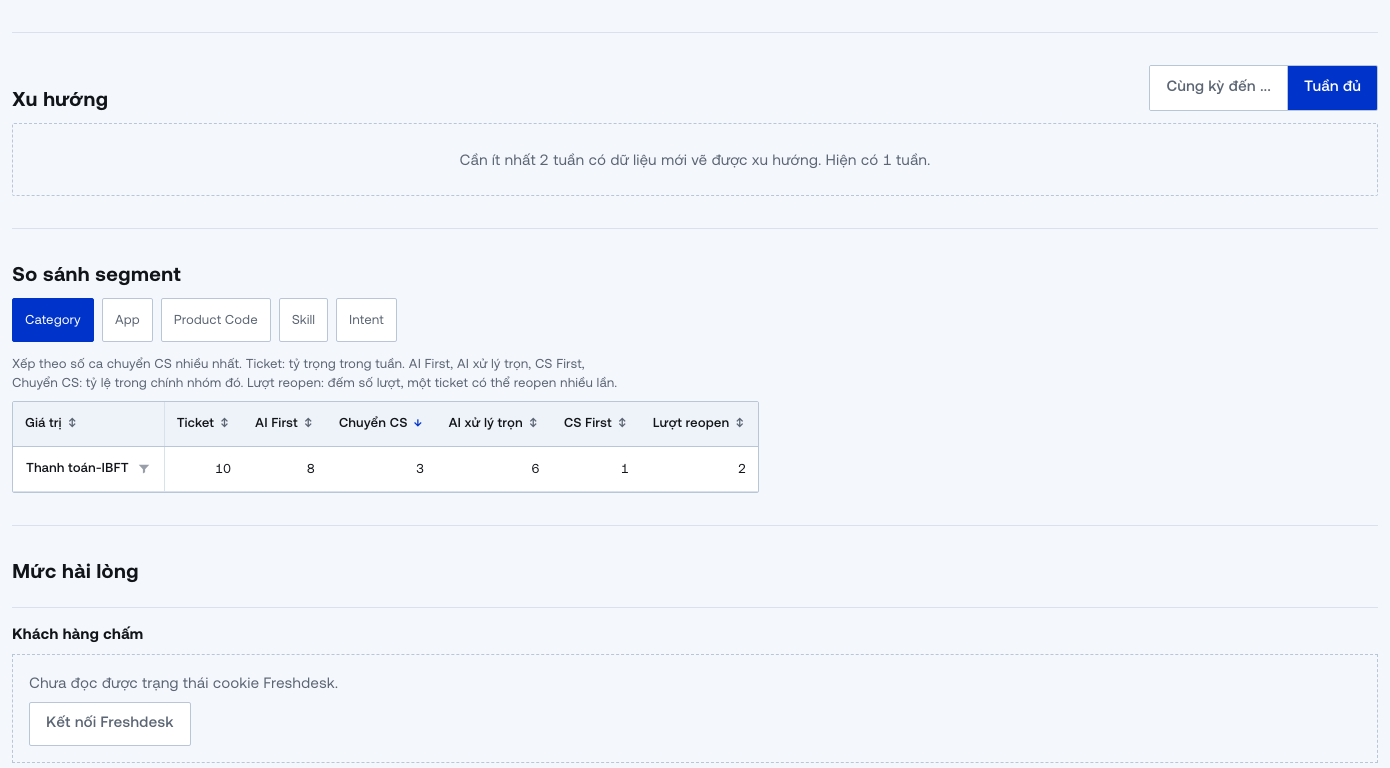
Test: Below-fold analysis › hides zero-ticket Product Code rows without hiding a positive row whose child metrics are zero
The image size is (1390, 768).
Step 1. Click the tab "Product Code" → (216, 320), box [161,298,271,342]
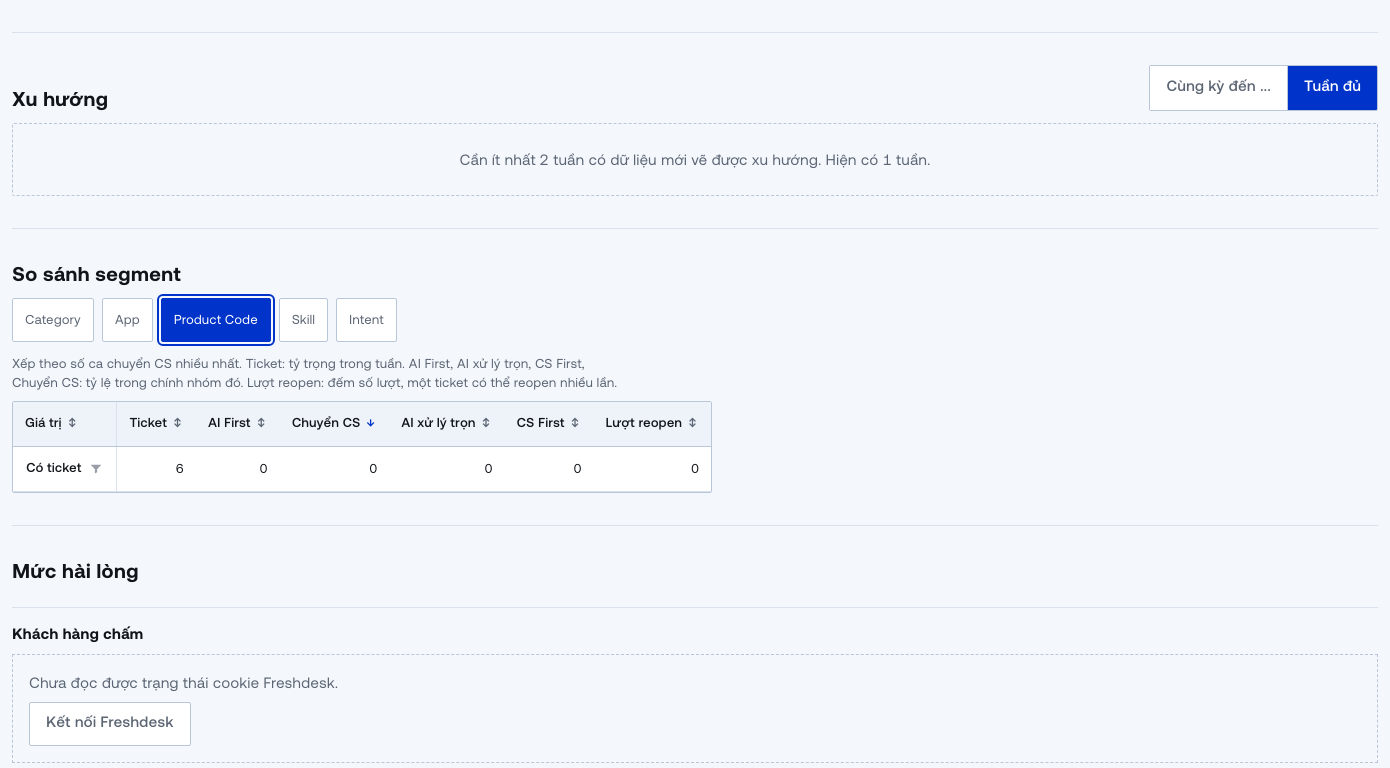
Expected: the text "6" is shown, [117,446,196,491]
